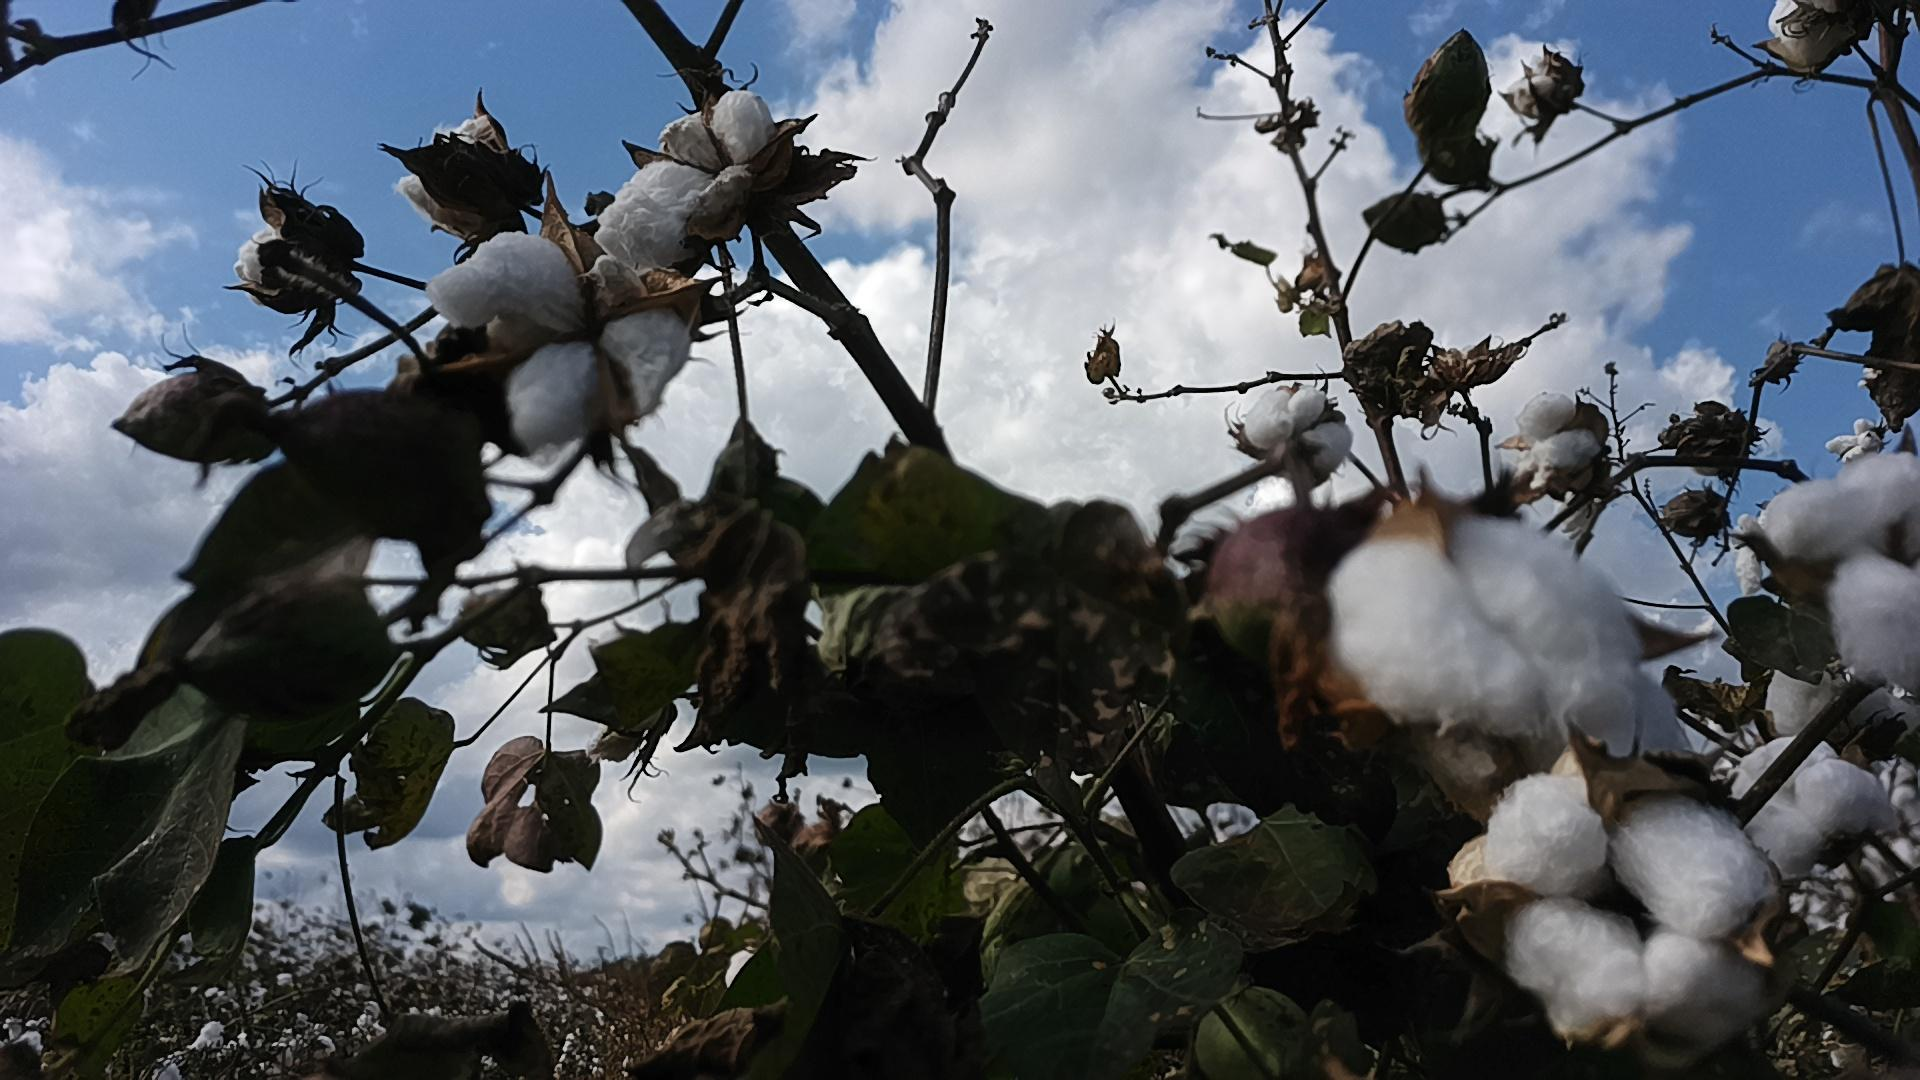cotton_ready: (1317, 513, 1700, 793), (1482, 770, 1788, 1059), (423, 233, 691, 451), (1763, 451, 1920, 699), (593, 91, 775, 278), (1730, 736, 1895, 886), (392, 116, 498, 237), (1244, 384, 1356, 485), (231, 206, 330, 309), (1515, 388, 1606, 493), (1771, 0, 1863, 75), (1513, 55, 1568, 116)
